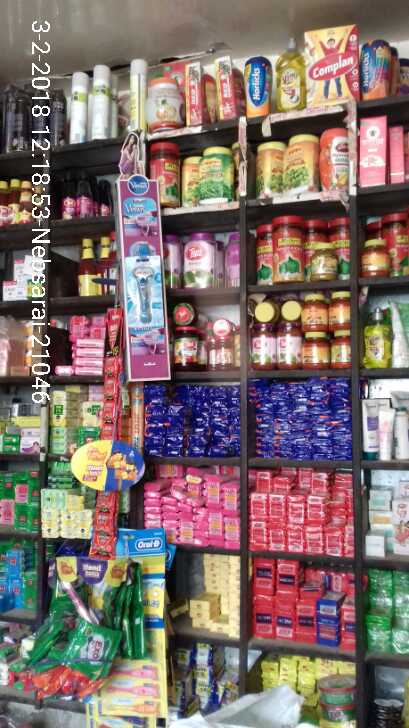venus: (120, 255, 169, 332)
